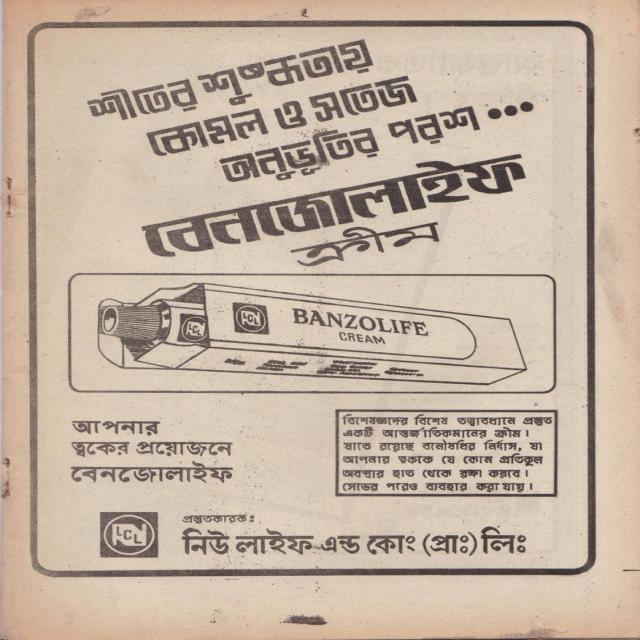advertisement: (25, 19, 596, 577)
